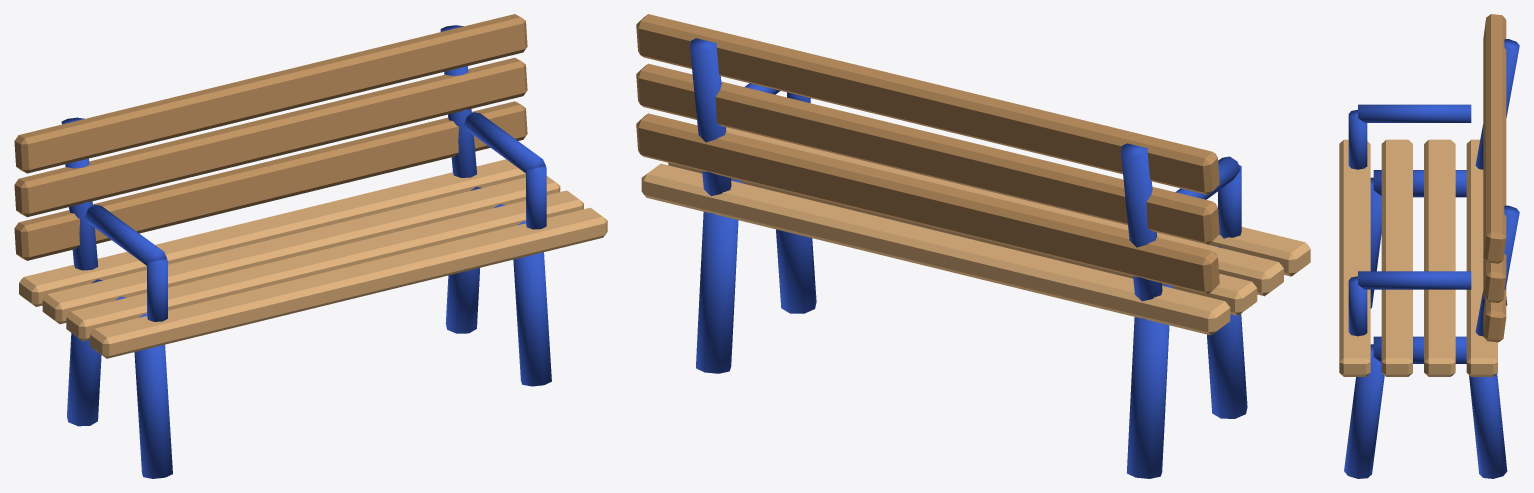
Rendered from prop_bench.glb.
3 renders of one model, left to right at view 1: azimuth 30°, elevation 25°; view 2: azimuth 150°, elevation 25°; view 3: azimuth 270°, elevation 25°, orthographic. The views are drawn at different scales.
Parts seen in each view (by area): view 1: structure.006; view 2: structure.006; view 3: structure.006.
Part boxes in pixels (<box>): structure.006: <box>14,14,607,478</box>; structure.006: <box>636,14,1310,478</box>; structure.006: <box>1339,14,1519,478</box>.
Size of the model in its own units: 1.6 by 0.9 by 0.55.
